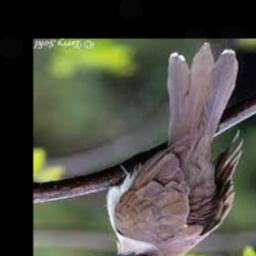Cuckoo: (94, 44, 244, 256)
